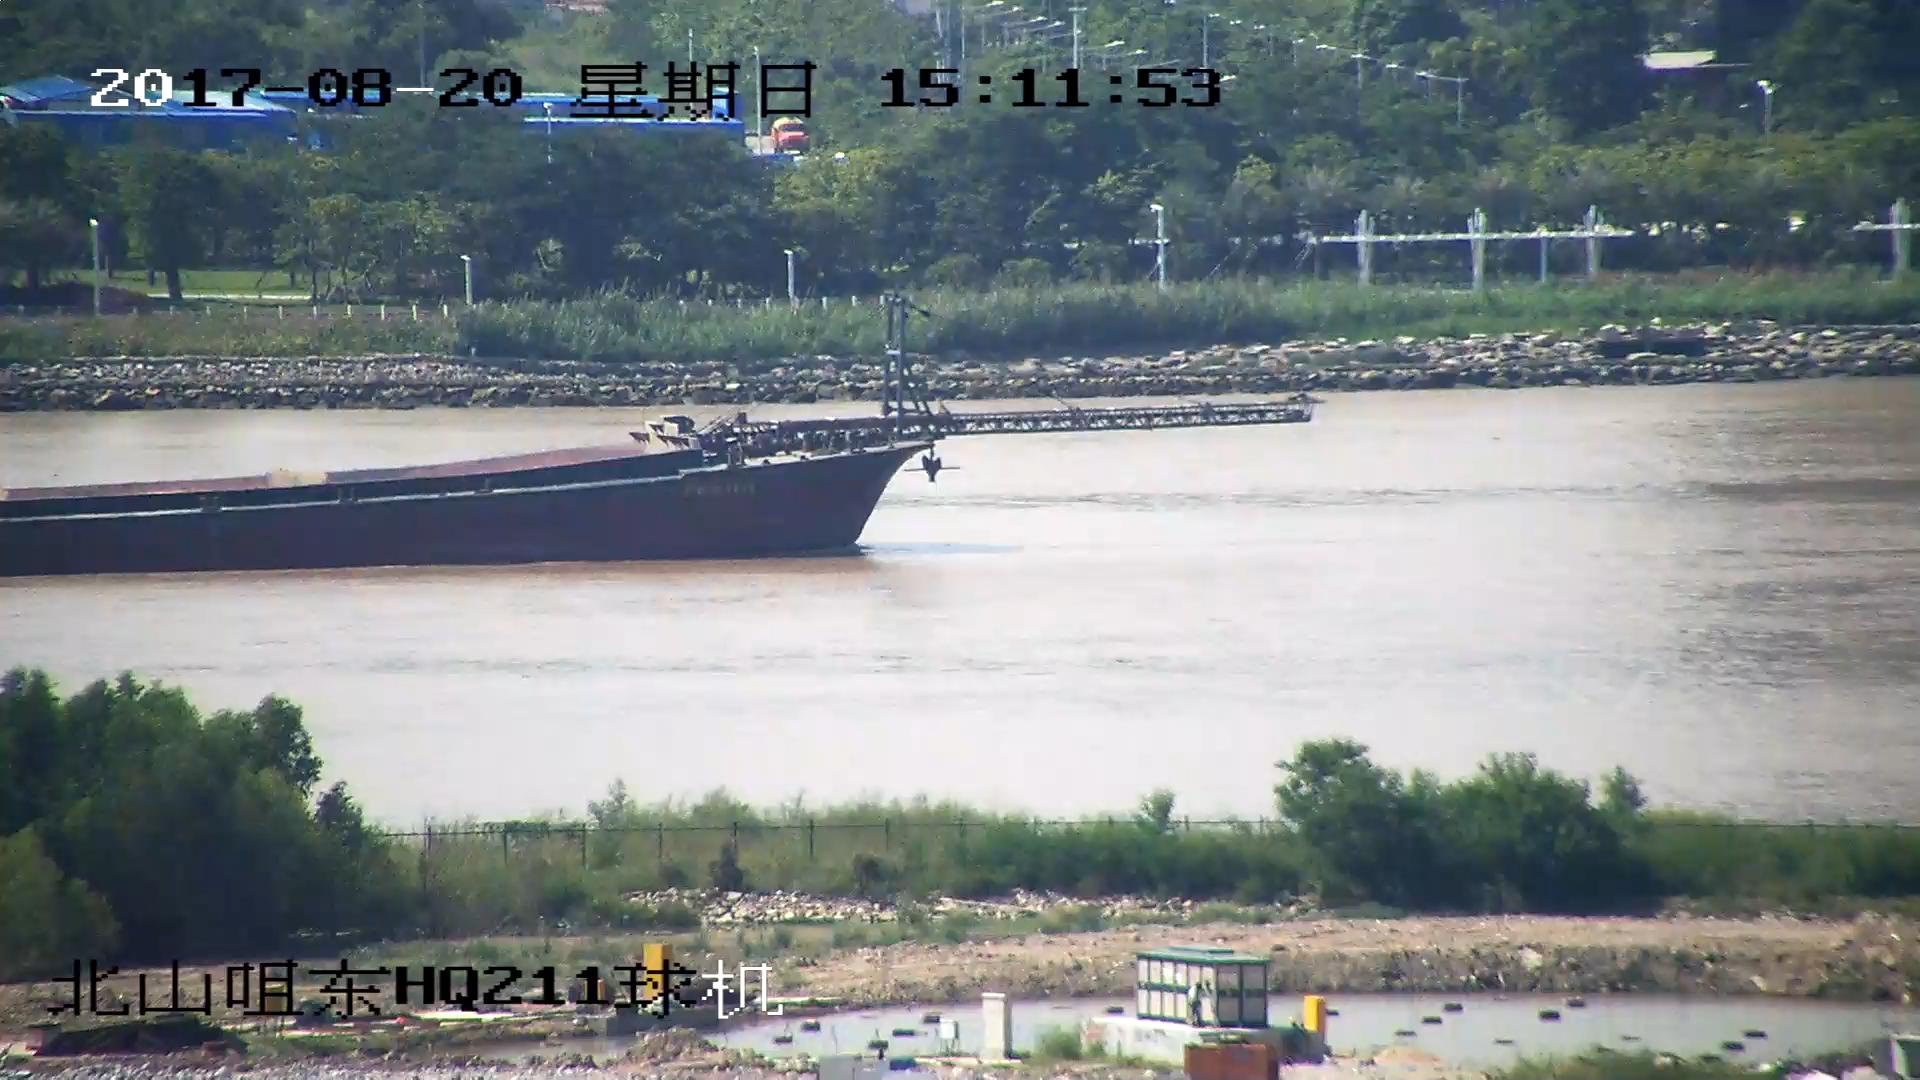bulk cargo carrier: (1, 281, 1313, 580)
